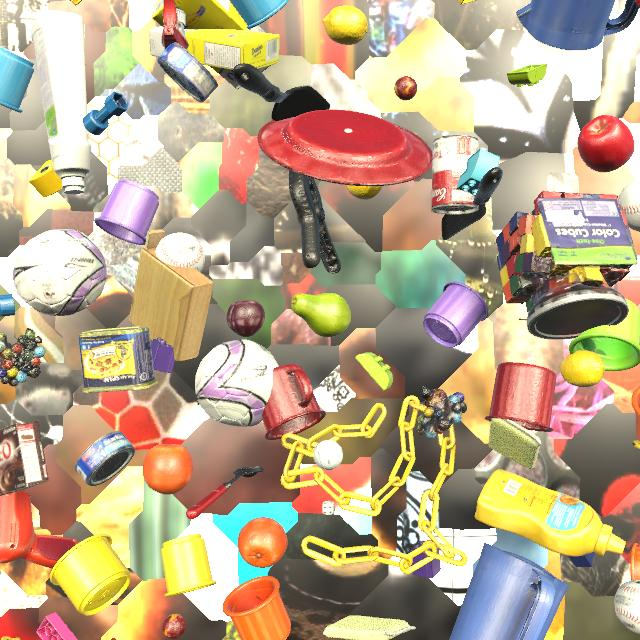ycb_004_sugar_box: (152, 0, 270, 90), (149, 26, 280, 70)
ycb_005_tomato_soup_can: (431, 135, 479, 215)
ycb_006_mustard_bottle: (475, 469, 626, 557)
ycb_007_tuna_fish_can: (157, 42, 218, 103), (74, 431, 135, 486)
ycb_008_pudding_box: (0, 421, 49, 496)
ycb_010_potted_meat_can: (78, 327, 158, 393)
ycb_012_strawberry: (635, 0, 640, 7)
ycb_013_apple: (577, 115, 635, 172)
ycb_014_lemon: (322, 6, 368, 45), (560, 350, 605, 387), (346, 185, 382, 200)
ycb_016_pear: (291, 293, 351, 337)
ycb_017_orange: (143, 444, 193, 495), (238, 517, 287, 568)
ycb_018_plum: (227, 300, 265, 337)
